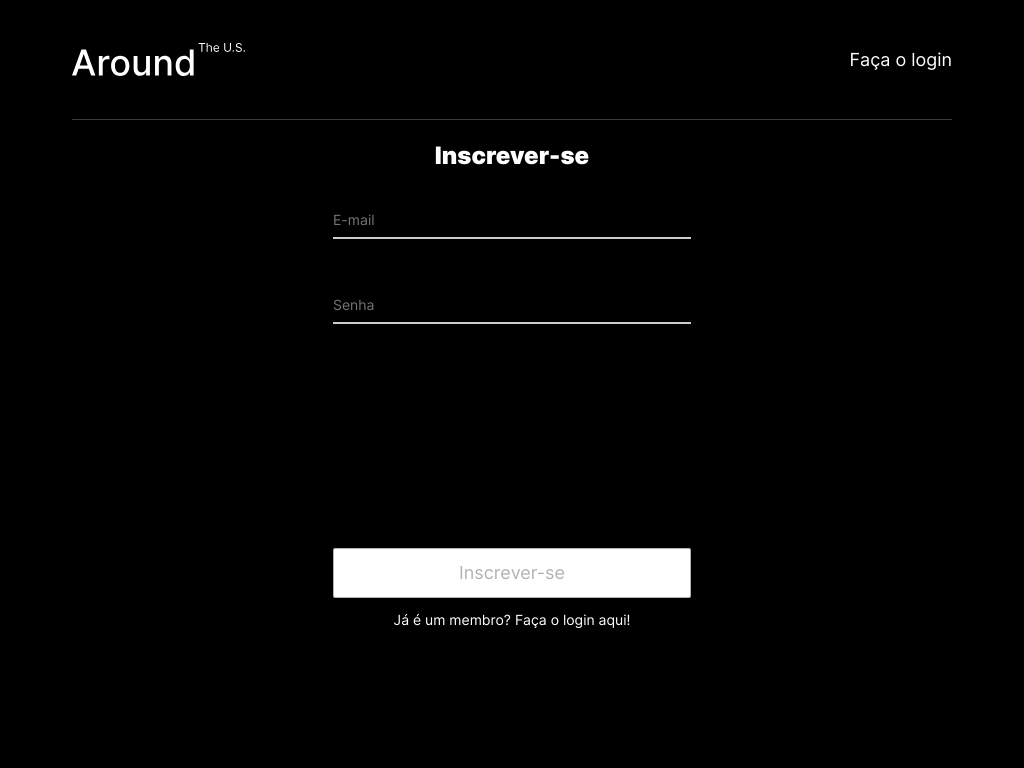
it: Cadastro › exibe erro 409 sem autenticar
Click the field with placeholder "E-mail" at (512, 216), box [333,192,691,239]
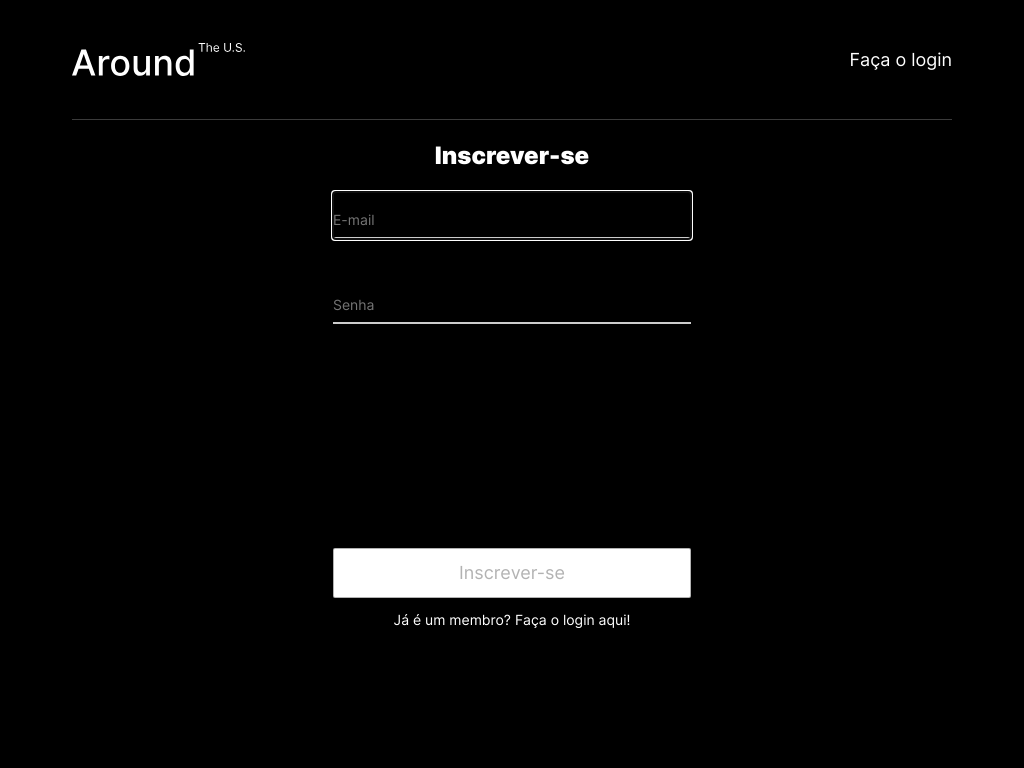
Type keys "ana@example.com"
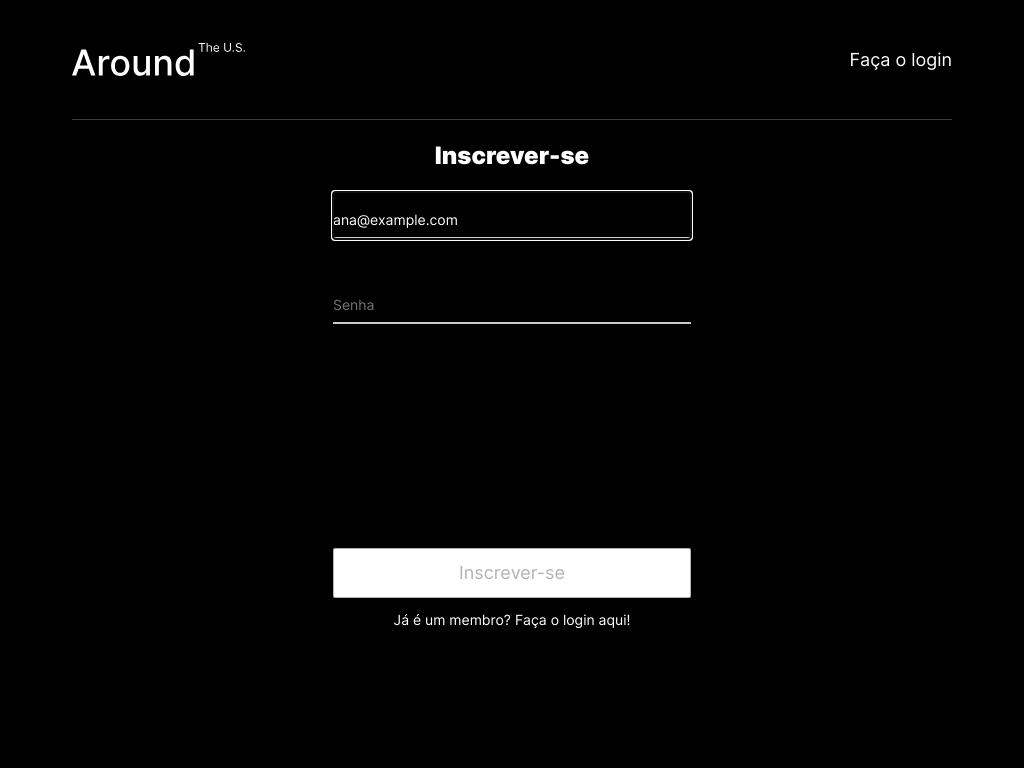
Click the password field with placeholder "Senha" at (512, 300), box [333,277,691,324]
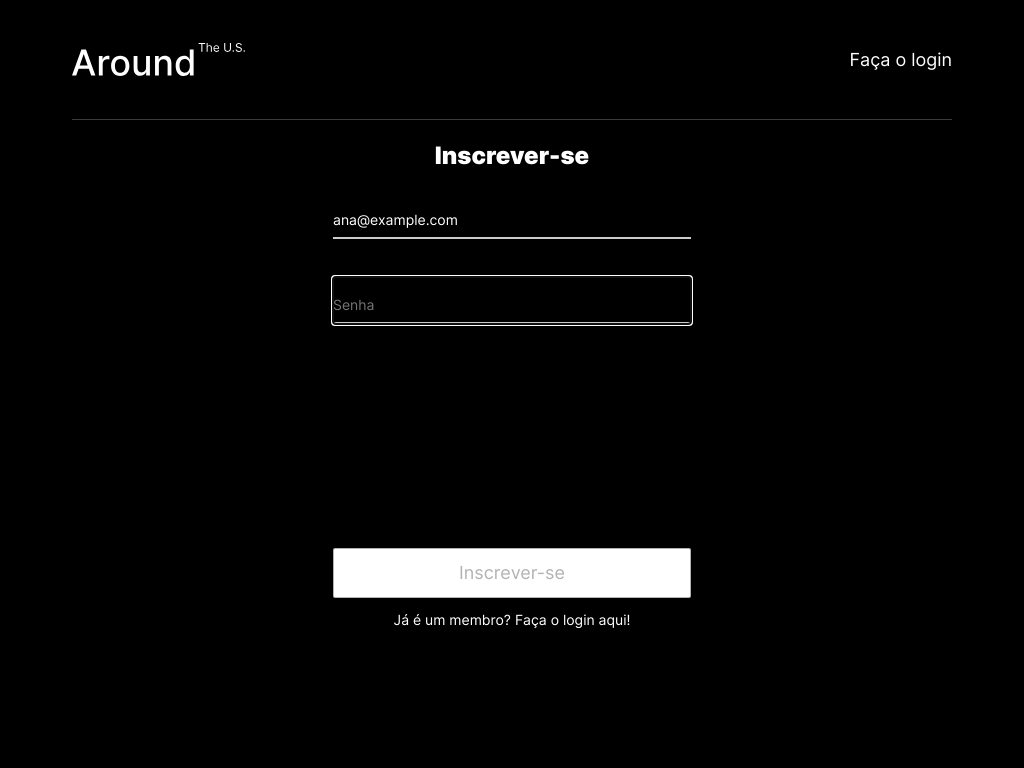
Type keys "Password123"
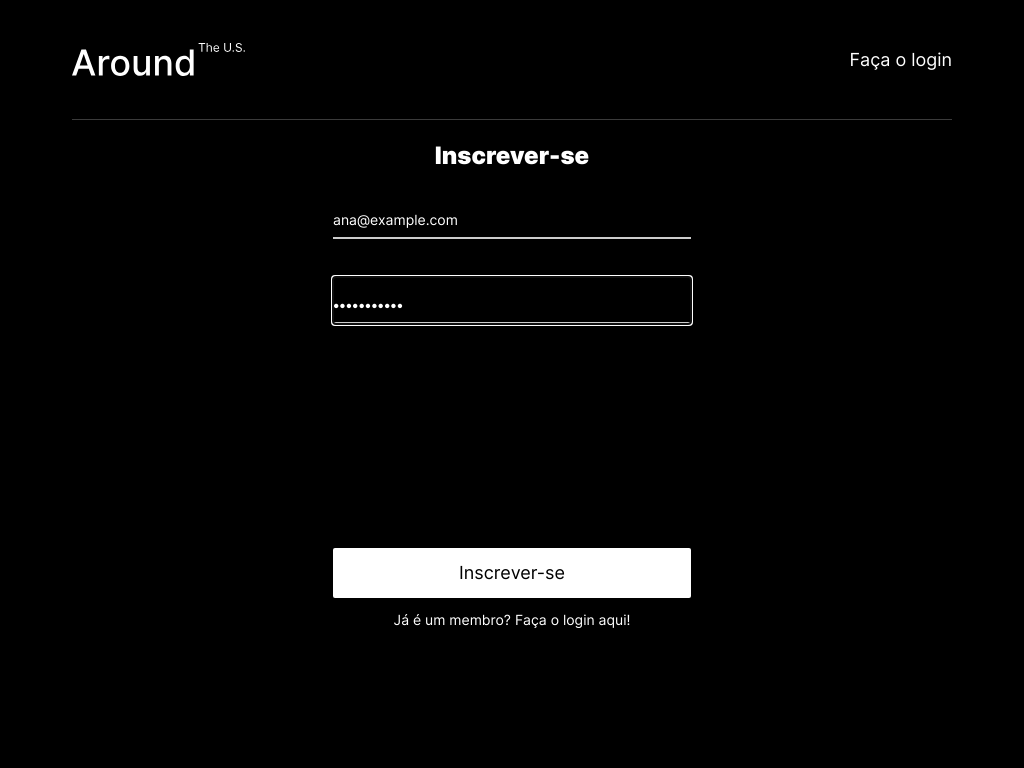
Click the button "Inscrever-se" at (512, 573), box [333,548,691,598]
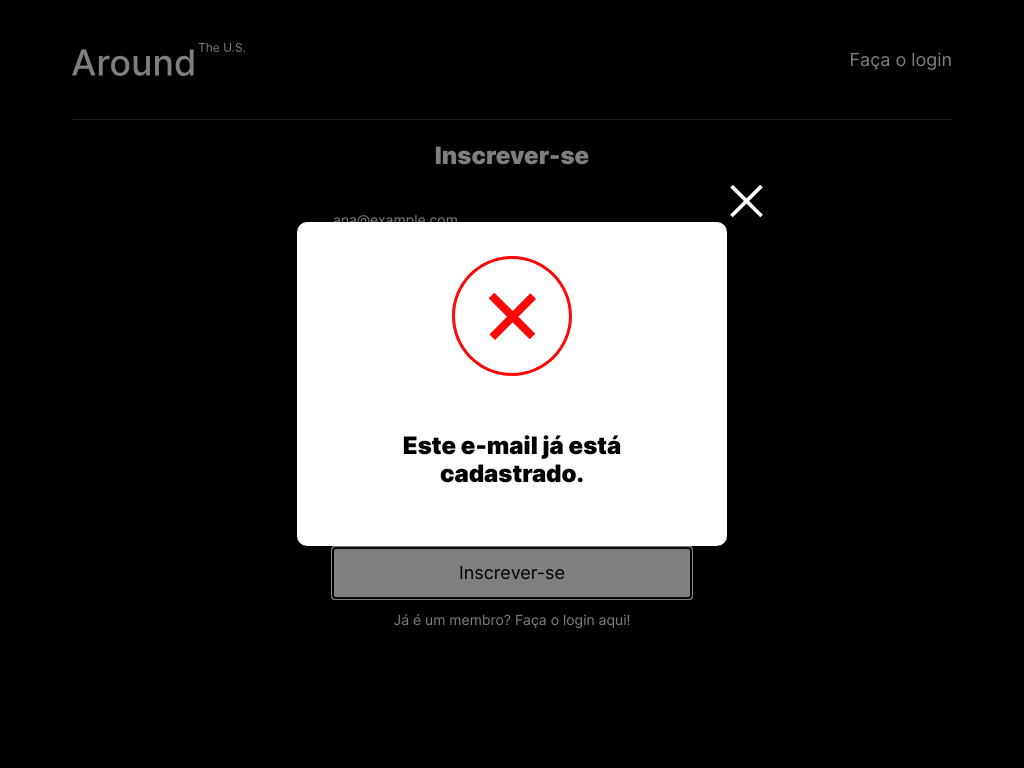
Expected: the heading "Este e-mail já está cadastrado." is shown, [403,431,621,488]
Click the button named "Close modal" at (746, 201), box [729,183,764,218]
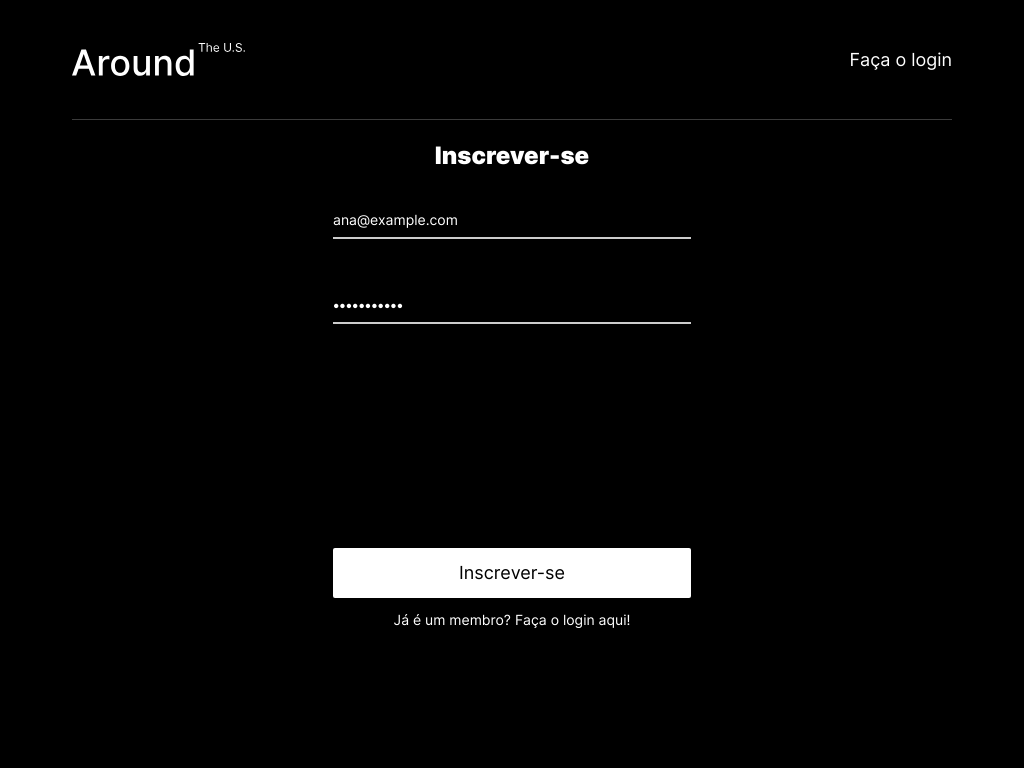
Expected: the heading "Este e-mail já está cadastrado." is gone
